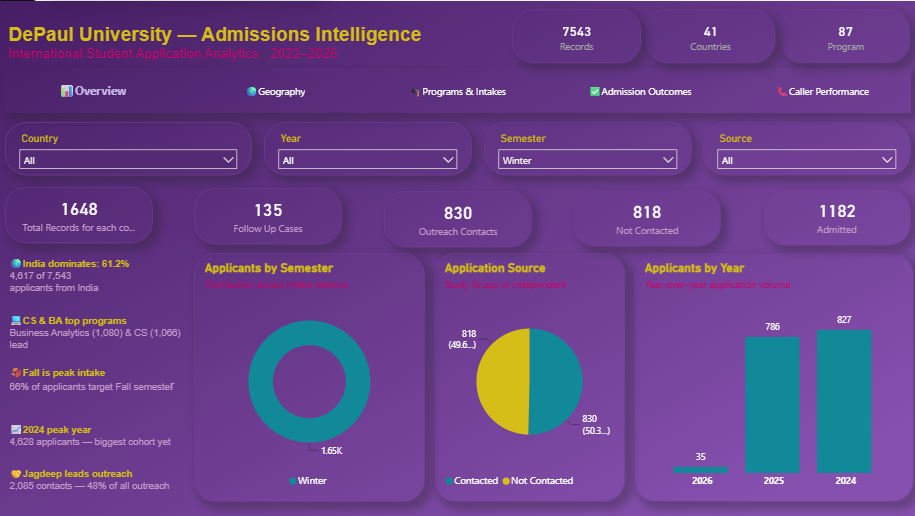

Layout of this report page (visuals, bound fields, positions):
{"tool":"powerbi","page":{"name":"📊Overview","canvas":[1280,720],"ordinal":0},"visuals":[{"type":"pageNavigator","box":[11,93.4,1256.2,62.3],"z":0},{"type":"advanceCardE03760C5AB684758B56AA29F9E6C257B","fields":{"mainMeasure":["Measures (2).Follow Up Cases"]},"box":[273.7,259.8,205.3,78],"z":0,"group":"g2"},{"type":"pieChart","title":"Application Source ","fields":{"Category":["Sheet1.Is_Contacted"],"Y":["CountNonNull(Sheet1.Reference_ID)"]},"box":[605.3,350.2,265,345],"z":0,"group":"g5"},{"type":"group","id":"g1","title":"Group 3","box":[11,168.5,1256.2,75.1],"z":1000},{"type":"advanceCardE03760C5AB684758B56AA29F9E6C257B","fields":{"mainMeasure":["Measures (2).Not Contacted"]},"box":[799.2,262.9,205.3,78],"z":1000,"group":"g2"},{"type":"textbox","box":[12.8,349.8,259.3,78.5],"z":1000,"group":"g3"},{"type":"group","id":"g2","title":"Group 4","box":[11,258.2,1256.2,84.2],"z":2000},{"type":"advanceCardE03760C5AB684758B56AA29F9E6C257B","fields":{"mainMeasure":["Measures (2).Contacted"]},"box":[536.5,264.4,205.3,78],"z":2000,"group":"g2"},{"type":"textbox","box":[12.8,428.3,260,78.8],"z":2000,"group":"g3"},{"type":"textbox","box":[11,9.2,710.5,98.9],"z":3000,"group":"g6"},{"type":"advanceCardE03760C5AB684758B56AA29F9E6C257B","fields":{"mainMeasure":["Measures (2).Total Records for each country"]},"box":[11,258.2,205.3,78],"z":3000,"group":"g2"},{"type":"group","id":"g3","title":"Group 1","box":[12.8,349.8,260,369.9],"z":3000},{"type":"textbox","box":[12.8,501.6,260,78.8],"z":3000,"group":"g3"},{"type":"group","id":"g4","title":"Group 2","box":[714,10.2,552,75],"z":4000,"group":"g6"},{"type":"group","id":"g5","title":"Group 5","box":[272.8,349.8,998.3,345.4],"z":4000},{"type":"textbox","box":[12.8,580.4,260,78.8],"z":4000,"group":"g3"},{"type":"group","id":"g6","title":"Group 6","box":[11,9.2,1255,98.9],"z":5000},{"type":"textbox","box":[12.8,640.9,260,78.8],"z":5000,"group":"g3"},{"type":"advanceCardE03760C5AB684758B56AA29F9E6C257B","fields":{"mainMeasure":["Count(Sheet1.Program)"]},"box":[1087,10.2,179,75],"z":6000,"group":"g4"},{"type":"slicer","fields":{"Values":["Sheet1.Country"]},"box":[11,168.5,342.4,74.2],"z":6000,"group":"g1"},{"type":"columnChart","title":"Applicants by Year ","fields":{"Category":["Sheet1.Intake_Year"],"Y":["CountNonNull(Sheet1.Reference_ID)"]},"box":[882.9,350.2,388.2,345],"z":6000,"group":"g5"},{"type":"advanceCardE03760C5AB684758B56AA29F9E6C257B","fields":{"mainMeasure":["Count(Sheet1.Country)"]},"box":[900.5,10.2,179,75],"z":7000,"group":"g4"},{"type":"slicer","fields":{"Values":["Sheet1.Intake_Season"]},"box":[675.3,169,287.8,74.5],"z":7000,"group":"g1"},{"type":"donutChart","title":"Applicants by Semester","fields":{"Category":["Sheet1.Intake_Season"],"Y":["CountNonNull(Sheet1.Reference_ID)"]},"box":[272.8,349.8,320,345],"z":7000,"group":"g5"},{"type":"slicer","fields":{"Values":["Sheet1.Intake_Year"]},"box":[370.2,169,287.8,74.5],"z":8000,"group":"g1"},{"type":"slicer","fields":{"Values":["Sheet1.Application_Source"]},"box":[979.4,169,287.8,74.5],"z":9014,"group":"g1"},{"type":"advanceCardE03760C5AB684758B56AA29F9E6C257B","fields":{"mainMeasure":["Measures (2).Total Records"]},"box":[714,10.2,179,75],"z":17002,"group":"g4"},{"type":"advanceCardE03760C5AB684758B56AA29F9E6C257B","fields":{"mainMeasure":["Measures (2).Admitted"]},"box":[1061.9,261.3,205.3,78],"z":17005,"group":"g2"}]}

Visuals, with their boxes in screenshot pixels (x1, y1, x2, y2), scaled from the page's 1280x720 canvas onto the 915x516 screenshot:
pageNavigator: left=8, top=67, right=906, bottom=112
advanceCardE03760C5AB684758B56AA29F9E6C257B - Measures (2).Follow Up Cases: left=196, top=186, right=342, bottom=242
"Application Source " pieChart: left=433, top=251, right=622, bottom=498
"Group 3" group: left=8, top=121, right=906, bottom=175
advanceCardE03760C5AB684758B56AA29F9E6C257B - Measures (2).Not Contacted: left=571, top=188, right=718, bottom=244
textbox: left=9, top=251, right=195, bottom=307
"Group 4" group: left=8, top=185, right=906, bottom=245
advanceCardE03760C5AB684758B56AA29F9E6C257B - Measures (2).Contacted: left=384, top=189, right=530, bottom=245
textbox: left=9, top=307, right=195, bottom=363
textbox: left=8, top=7, right=516, bottom=77
advanceCardE03760C5AB684758B56AA29F9E6C257B - Measures (2).Total Records for each country: left=8, top=185, right=155, bottom=241
"Group 1" group: left=9, top=251, right=195, bottom=515
textbox: left=9, top=359, right=195, bottom=416
"Group 2" group: left=510, top=7, right=905, bottom=61
"Group 5" group: left=195, top=251, right=909, bottom=498
textbox: left=9, top=416, right=195, bottom=472
"Group 6" group: left=8, top=7, right=905, bottom=77
textbox: left=9, top=459, right=195, bottom=515
advanceCardE03760C5AB684758B56AA29F9E6C257B - Count(Sheet1.Program): left=777, top=7, right=905, bottom=61
slicer - Sheet1.Country: left=8, top=121, right=253, bottom=174
"Applicants by Year " columnChart: left=631, top=251, right=909, bottom=498
advanceCardE03760C5AB684758B56AA29F9E6C257B - Count(Sheet1.Country): left=644, top=7, right=772, bottom=61
slicer - Sheet1.Intake_Season: left=483, top=121, right=688, bottom=175
"Applicants by Semester" donutChart: left=195, top=251, right=424, bottom=498
slicer - Sheet1.Intake_Year: left=265, top=121, right=470, bottom=175
slicer - Sheet1.Application_Source: left=700, top=121, right=906, bottom=175
advanceCardE03760C5AB684758B56AA29F9E6C257B - Measures (2).Total Records: left=510, top=7, right=638, bottom=61
advanceCardE03760C5AB684758B56AA29F9E6C257B - Measures (2).Admitted: left=759, top=187, right=906, bottom=243
